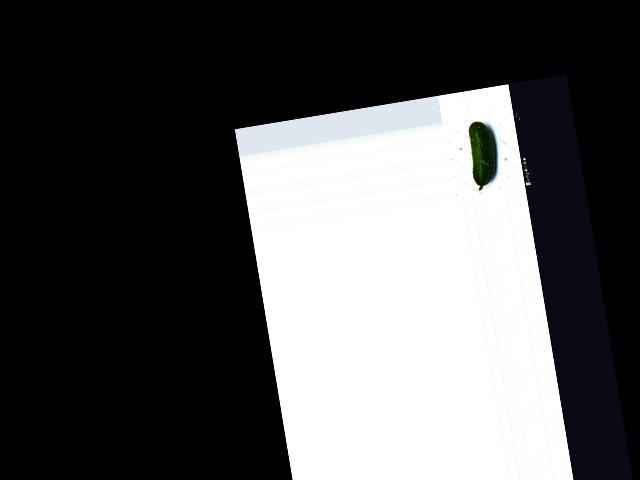cucumber: (464, 118, 501, 191)
